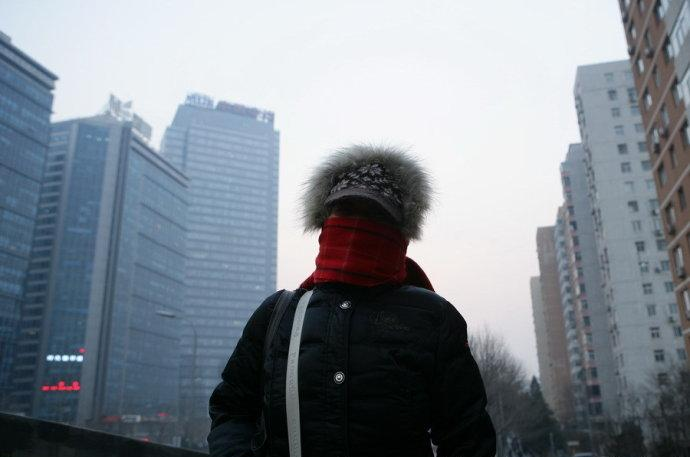person: (207, 143, 497, 457)
